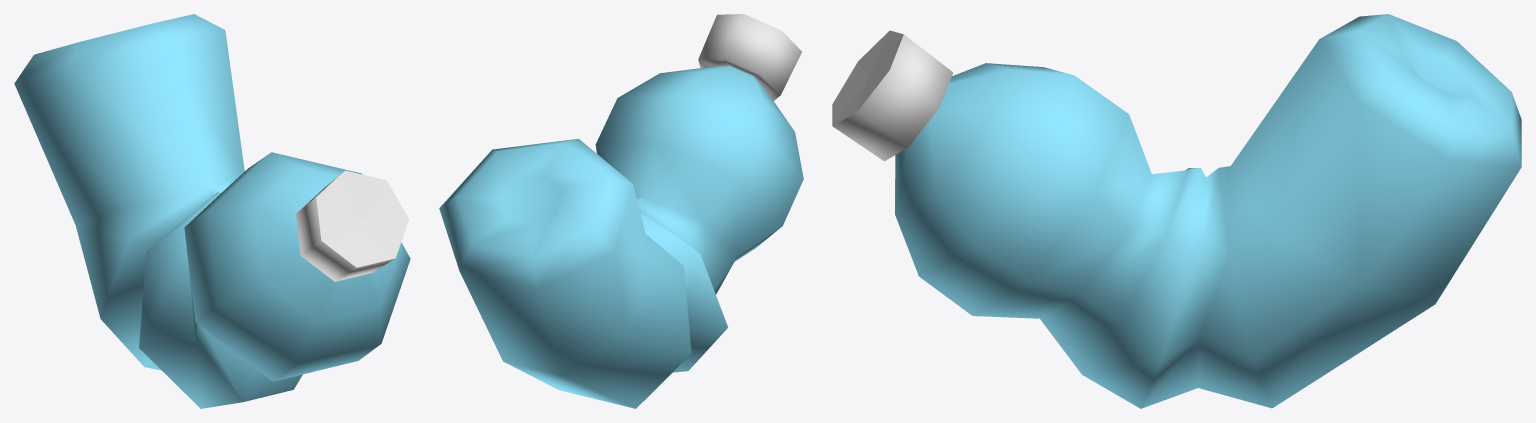
File: BottlePlasticCrushed.fbx
The picture shows the model from 3 angles, left to right: view 1: azimuth 30°, elevation 25°; view 2: azimuth 150°, elevation 25°; view 3: azimuth 270°, elevation 25°; orthographic projection. The views are drawn at different scales.
Parts seen in each view (by area): view 1: BottlePlasticTwisted; view 2: BottlePlasticTwisted; view 3: BottlePlasticTwisted.
Boxes of the visible parts, box(x1,y1,x2,y2) form: BottlePlasticTwisted: box(14, 14, 410, 408); BottlePlasticTwisted: box(439, 14, 803, 408); BottlePlasticTwisted: box(832, 14, 1521, 408).
Size of the model in its own units: 32.43 by 49.21 by 86.83.
